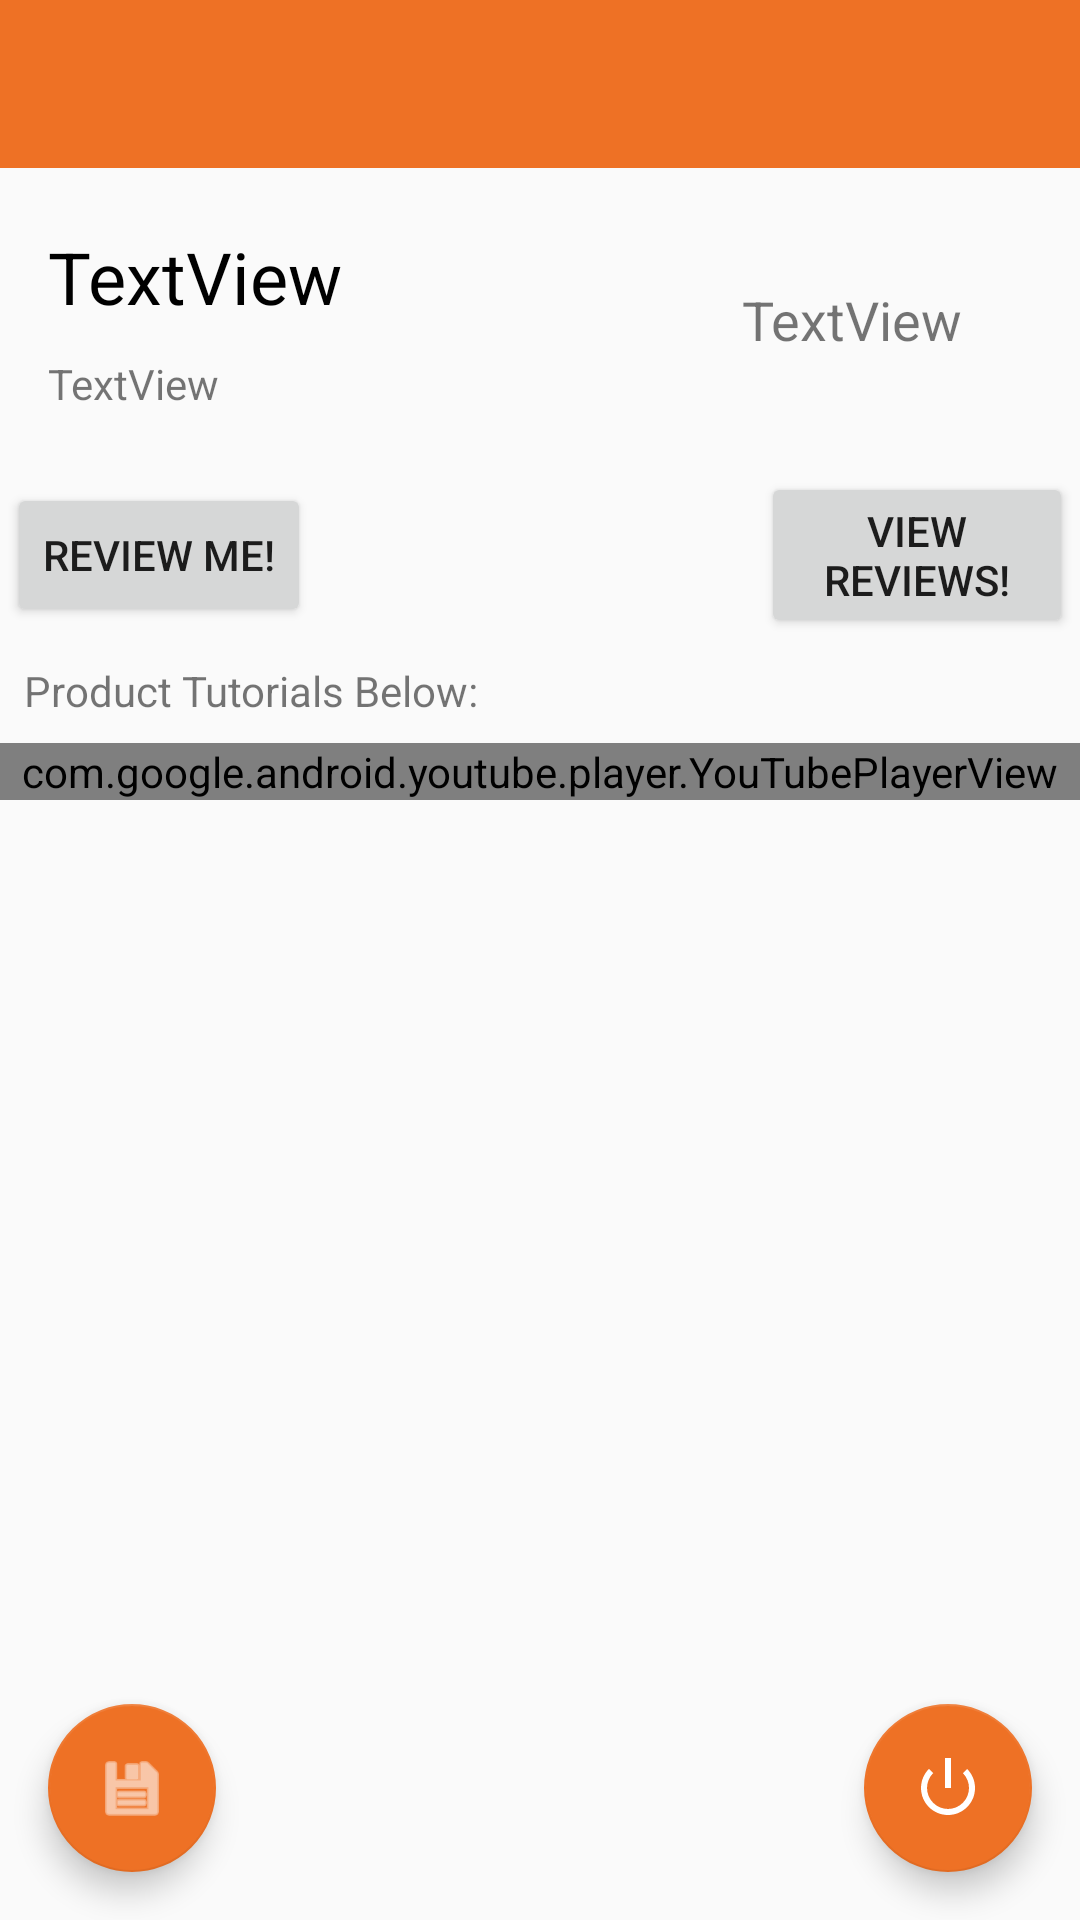

Locate icon controls on the screen. Image size 1080×1920, boxes as (x1, y1, x2, y2).
lock power off: (864, 1704, 1032, 1872)
save: (48, 1704, 216, 1872)
